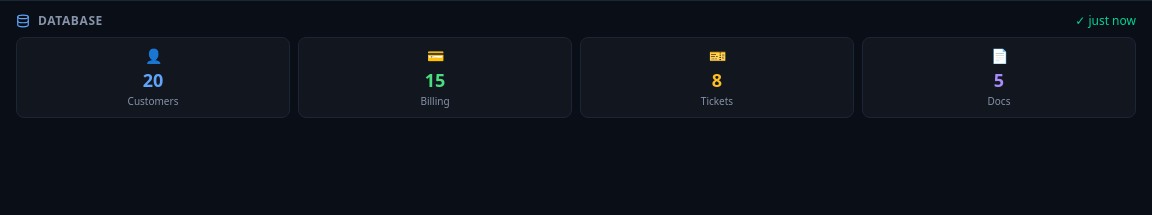
DatabaseStatus › expands a card on click and loads its rows
Click the text "Customers".
click(153, 101)  # box x1=128 y1=94 x2=178 y2=108
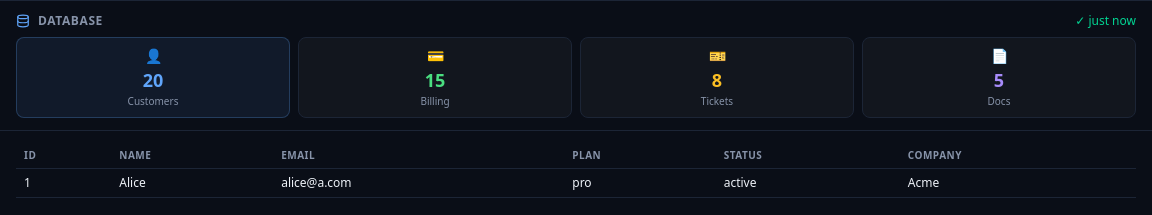
Expected: the text "Alice" is shown, x1=111 y1=169 x2=273 y2=198
